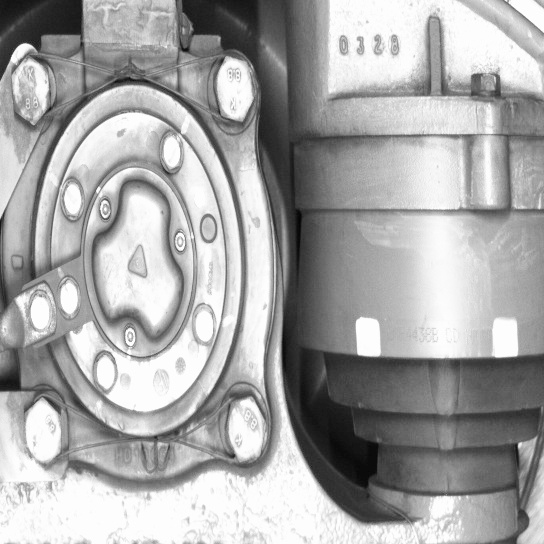Screw: (3, 48, 57, 131), (218, 387, 270, 470), (206, 47, 258, 129), (18, 391, 68, 469)
